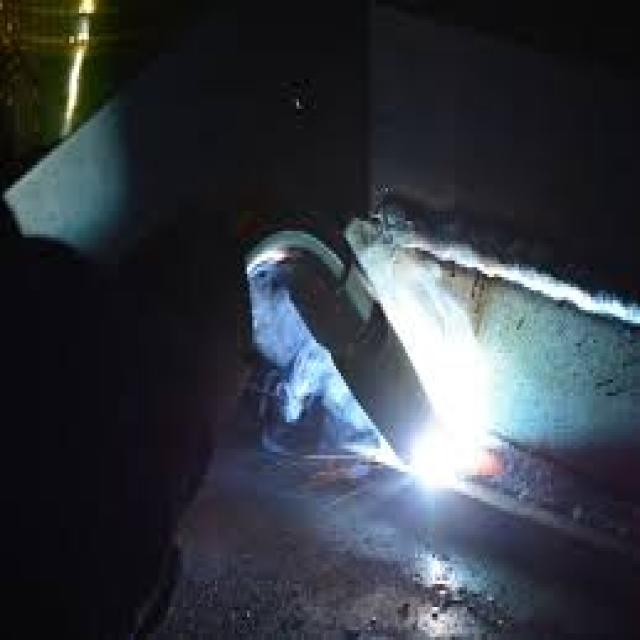welding: (413, 408, 490, 488)
